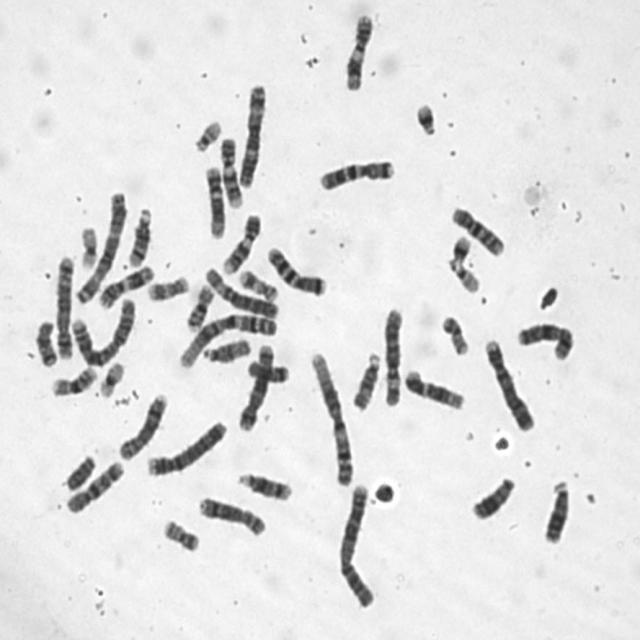A1: (305, 346, 355, 487), (174, 307, 279, 371)
A2: (333, 478, 378, 609), (66, 291, 138, 368)
A3: (71, 184, 129, 306), (234, 78, 269, 188)
B4: (479, 332, 537, 433), (141, 414, 229, 478)
B5: (233, 338, 276, 432), (50, 249, 76, 359)
C10: (61, 454, 126, 516), (446, 200, 506, 258)
C11: (92, 259, 156, 310), (338, 8, 376, 92)
C12: (399, 363, 466, 411), (200, 160, 227, 240)
C6: (200, 260, 280, 319), (378, 301, 406, 407)
C7: (262, 239, 328, 298), (314, 152, 397, 192)
C8: (114, 388, 170, 462), (194, 490, 268, 538)
C9: (216, 207, 262, 276), (216, 132, 244, 209)
D13: (467, 470, 518, 522), (539, 473, 572, 545)
D14: (232, 466, 294, 502), (122, 202, 154, 268)
D15: (347, 346, 382, 412), (197, 332, 253, 364)
E16: (46, 360, 99, 398), (181, 278, 215, 332)
E17: (234, 264, 280, 304), (142, 270, 190, 303)
E18: (30, 314, 59, 368), (243, 354, 290, 384)
F19: (94, 356, 126, 398), (75, 219, 99, 271)
F20: (157, 512, 201, 554), (436, 308, 472, 357)
G21: (409, 96, 439, 137), (446, 229, 473, 264)
G22: (443, 253, 482, 294), (189, 114, 223, 154)
X: (512, 315, 576, 362)
Y: (60, 448, 97, 492)
